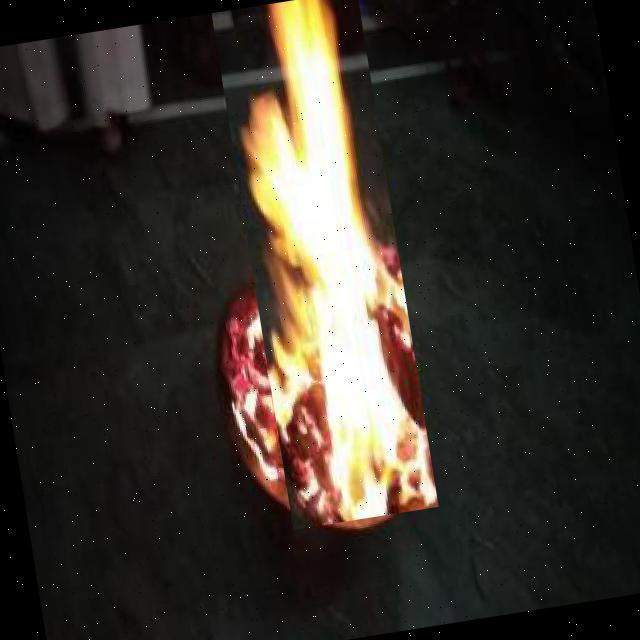fire: (211, 0, 438, 530)
